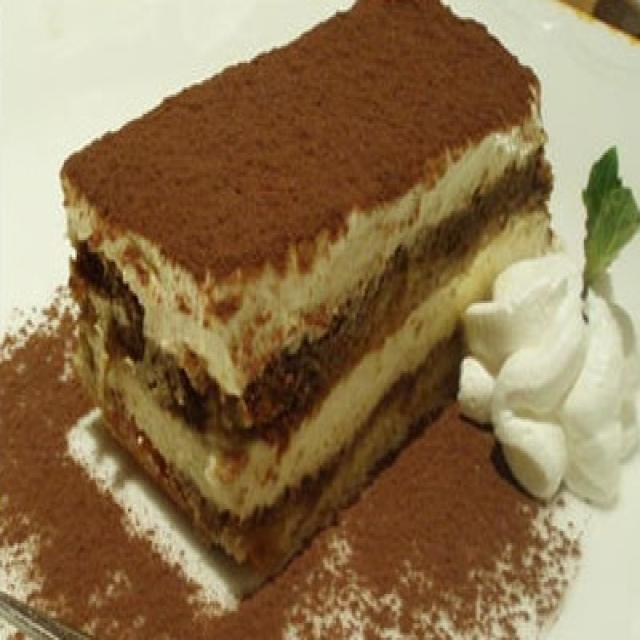蛋糕甜品: (21, 12, 613, 599)
